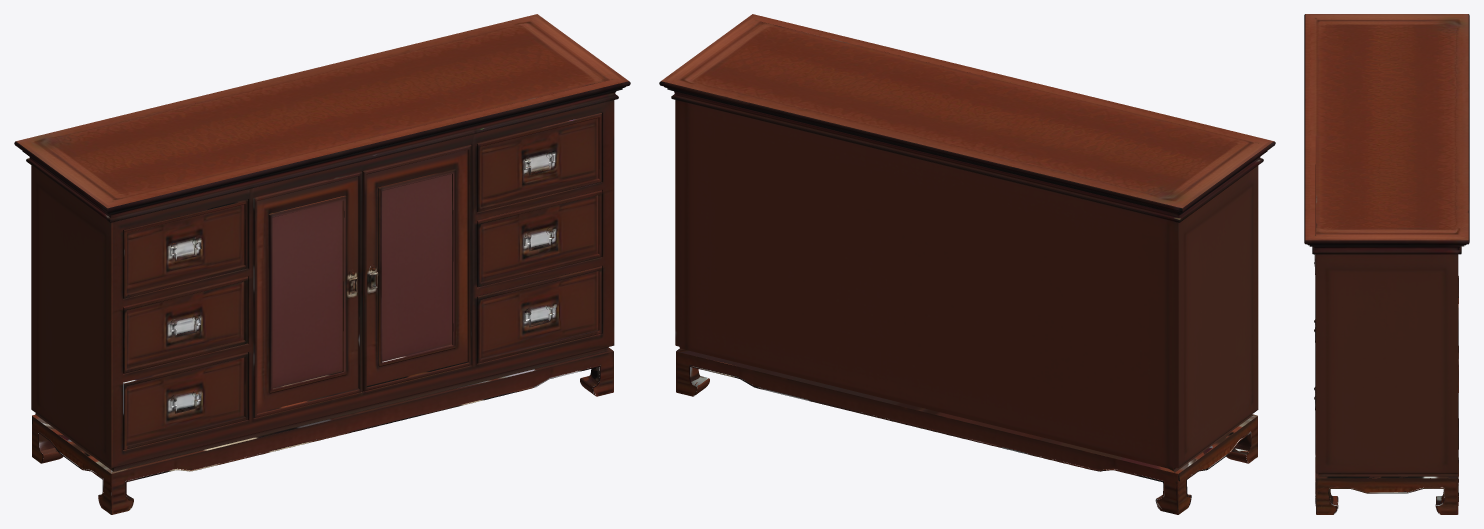
The model's file is edited_mesh.glb.
3 views of the same model, side by side, from view 1: azimuth 30°, elevation 25°; view 2: azimuth 150°, elevation 25°; view 3: azimuth 270°, elevation 25° (orthographic). The views are drawn at different scales.
Visible parts, largest first — view 1: solid_001_wire; view 2: solid_001_wire; view 3: solid_001_wire.
Boxes of the visible parts, x1,y1,x2,y2 form: solid_001_wire: [14, 14, 630, 514]; solid_001_wire: [659, 14, 1275, 514]; solid_001_wire: [1304, 14, 1469, 514].
Bounding box in the file's own units: 1.86 × 1.07 × 0.5733.
Materials: 1 (1 with a texture image).
